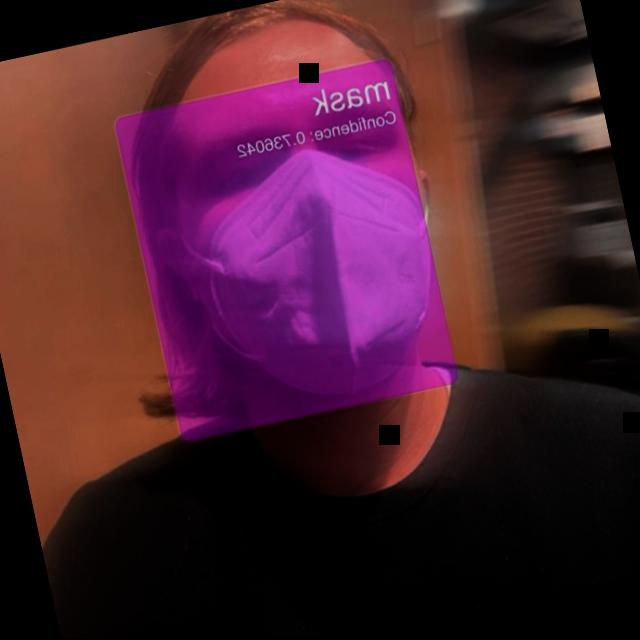Mask: (72, 0, 495, 441)
